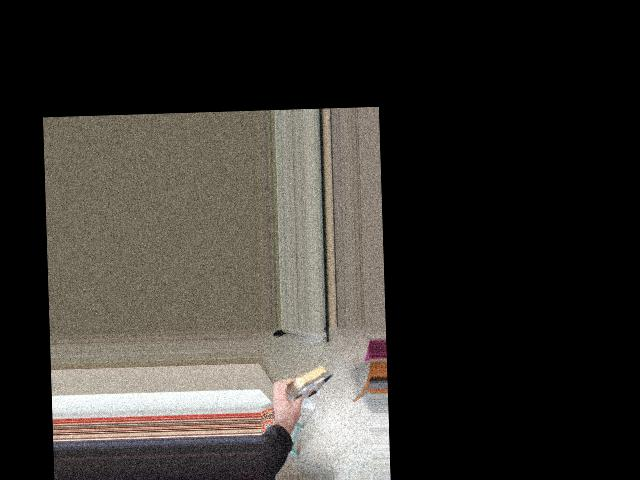cheese: (263, 355, 336, 413)
